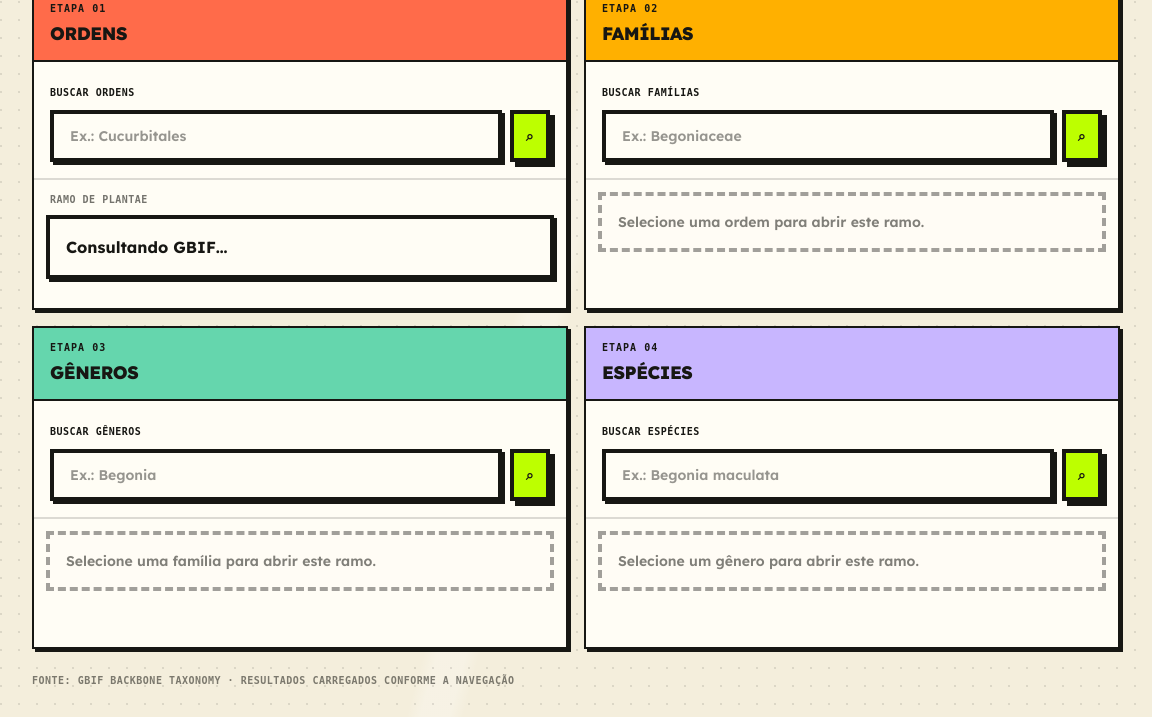
busca um gênero sem exigir navegação prévia e recompõe seus ancestrais
(page scrolled)
Type "Begonia" into the search field labelled "Buscar gêneros" at x=276, y=475, box x1=50 y1=449 x2=502 y2=501
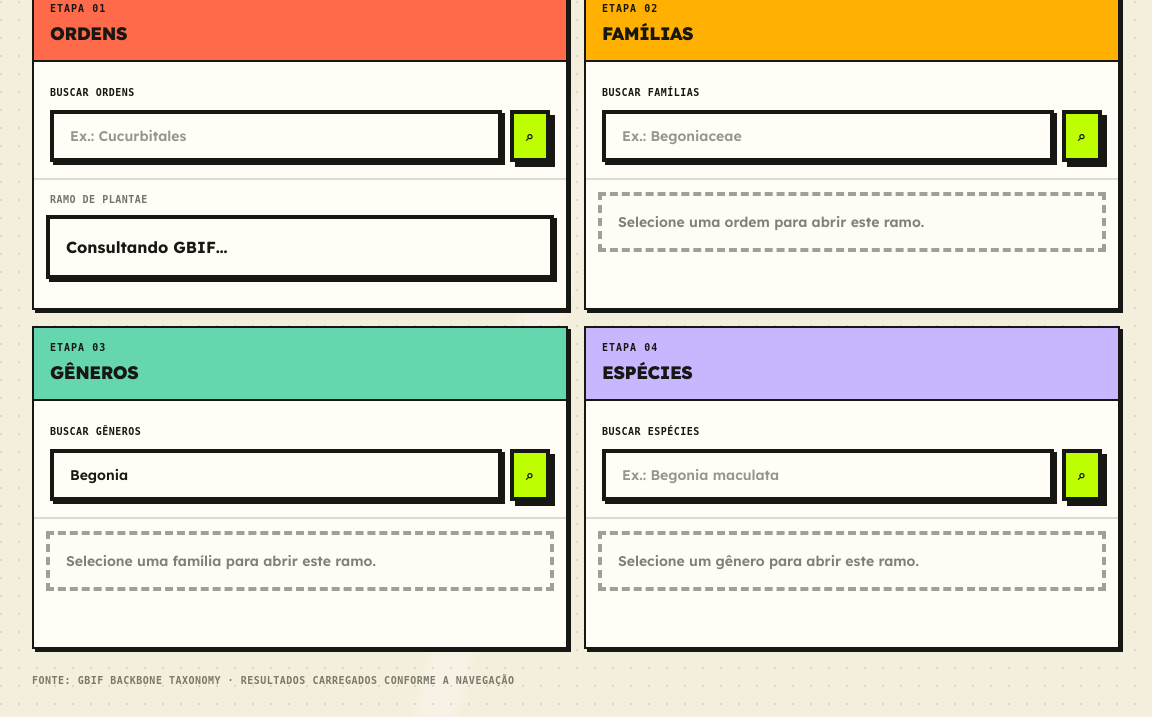
Submit the form labelled "Buscar gêneros", box x1=34 y1=401 x2=566 y2=519
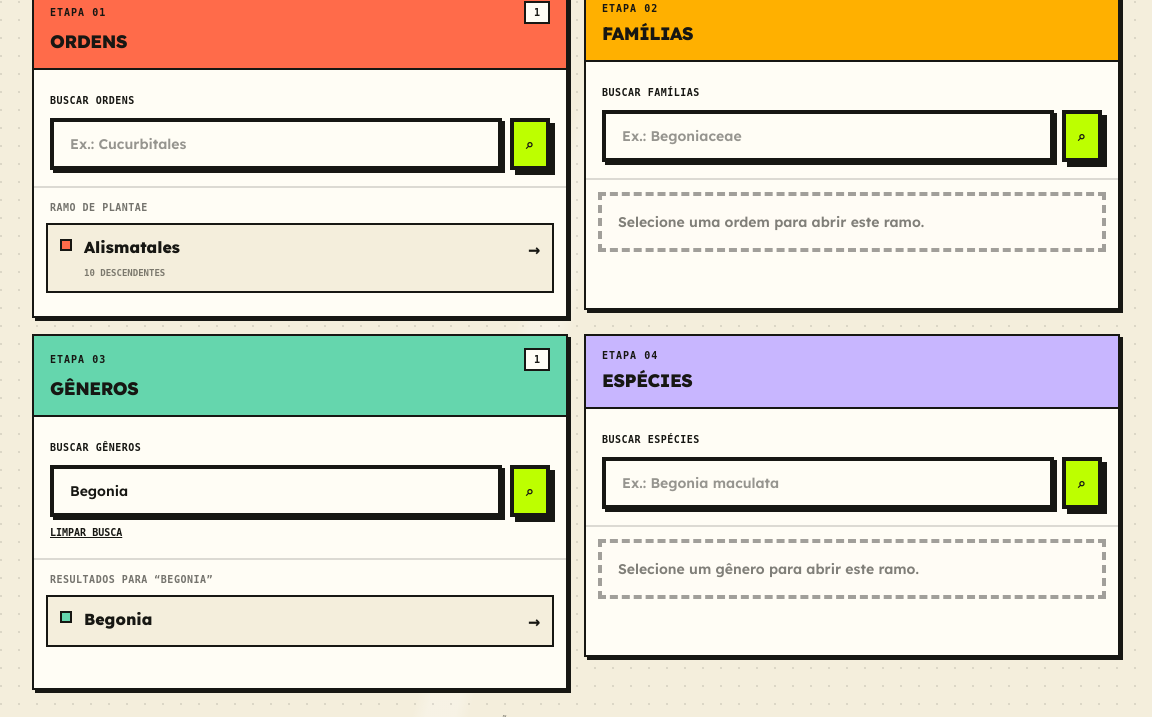
Click the button "Begonia →" at x=118, y=619, box x1=46 y1=595 x2=554 y2=647
(page scrolled)
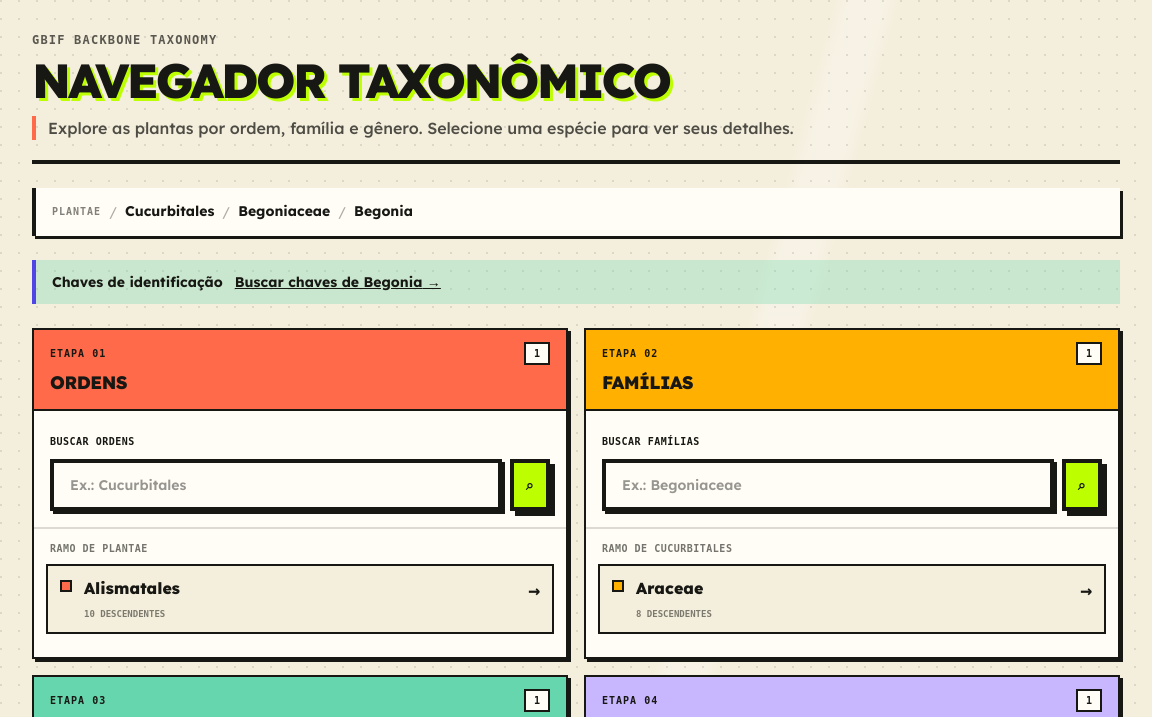
Result: the navigation bar named "Caminho taxonômico selecionado" reads "Plantae" at x1=32 y1=188 x2=1120 y2=236
